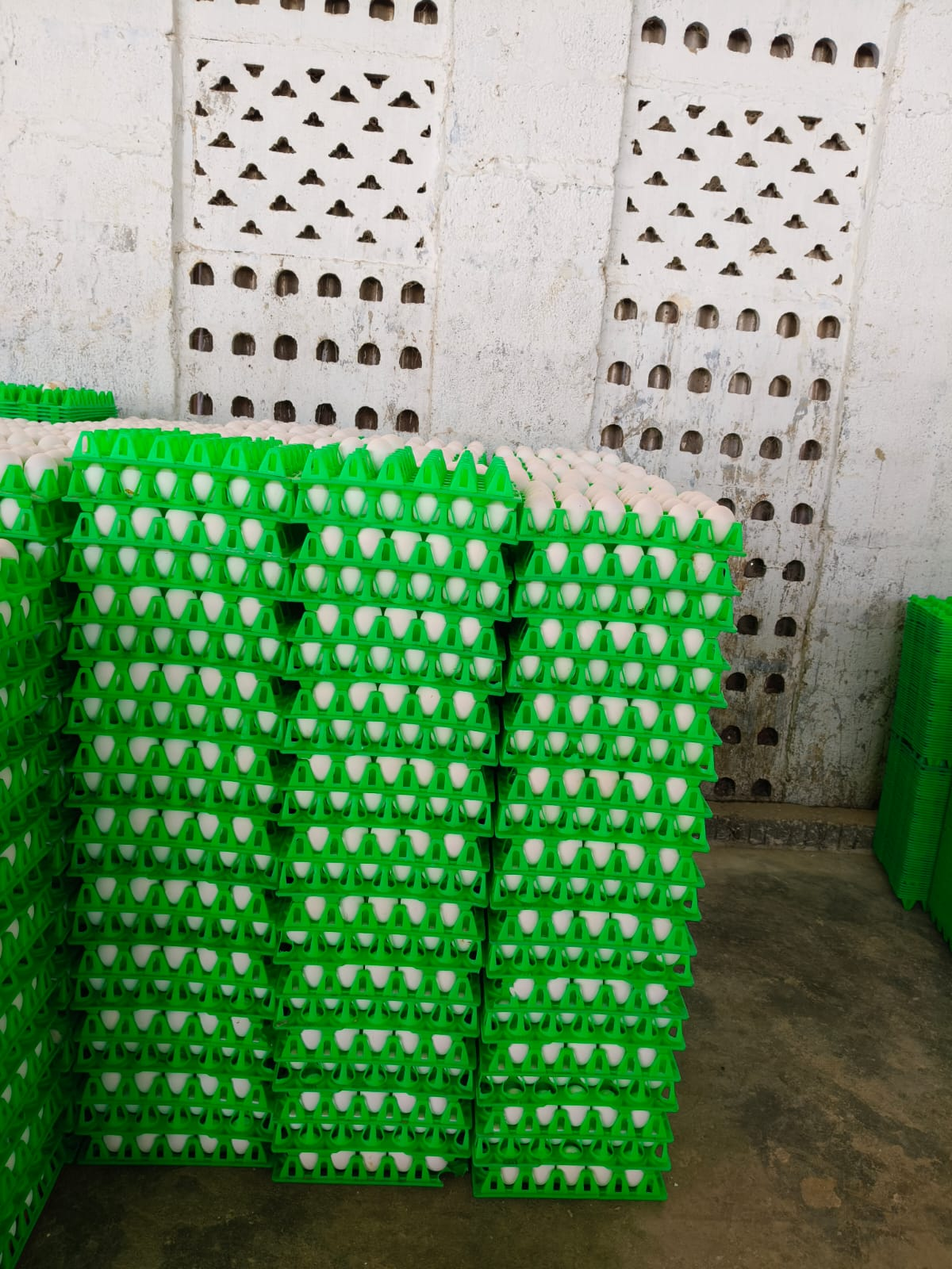egg_tray: (291, 479, 510, 527), (275, 976, 474, 1028), (74, 455, 288, 501), (294, 775, 480, 825), (85, 614, 277, 662), (69, 577, 283, 620), (272, 881, 451, 931), (529, 498, 736, 541), (79, 540, 277, 584), (286, 942, 474, 988), (487, 873, 696, 914), (296, 669, 489, 713), (77, 685, 271, 728), (510, 759, 700, 802), (63, 725, 260, 766), (286, 638, 491, 677), (296, 527, 491, 567), (532, 617, 726, 656), (288, 712, 482, 751), (489, 1008, 690, 1045), (492, 934, 702, 969), (296, 566, 504, 601), (539, 569, 719, 609), (74, 511, 277, 546), (508, 730, 704, 766), (98, 1119, 252, 1164), (296, 825, 468, 865), (288, 923, 478, 958), (492, 1066, 711, 1096), (288, 852, 470, 888), (502, 907, 692, 941), (481, 1169, 664, 1204), (497, 973, 685, 1007), (296, 754, 468, 791), (497, 841, 688, 874), (309, 609, 493, 643), (77, 661, 252, 696), (518, 706, 721, 736), (95, 907, 264, 943), (286, 1053, 455, 1089), (304, 1087, 480, 1121), (296, 1137, 453, 1174), (529, 550, 728, 579), (510, 664, 715, 692), (497, 810, 717, 836), (77, 1098, 260, 1128), (89, 812, 281, 840), (90, 979, 269, 1009), (489, 1106, 666, 1136), (272, 1024, 468, 1051), (90, 1066, 243, 1100), (87, 765, 267, 793), (87, 1032, 254, 1062), (85, 944, 254, 973), (304, 1116, 457, 1147), (90, 1005, 250, 1032), (487, 1139, 677, 1161), (85, 841, 254, 865), (487, 1045, 679, 1066), (85, 878, 273, 899)
